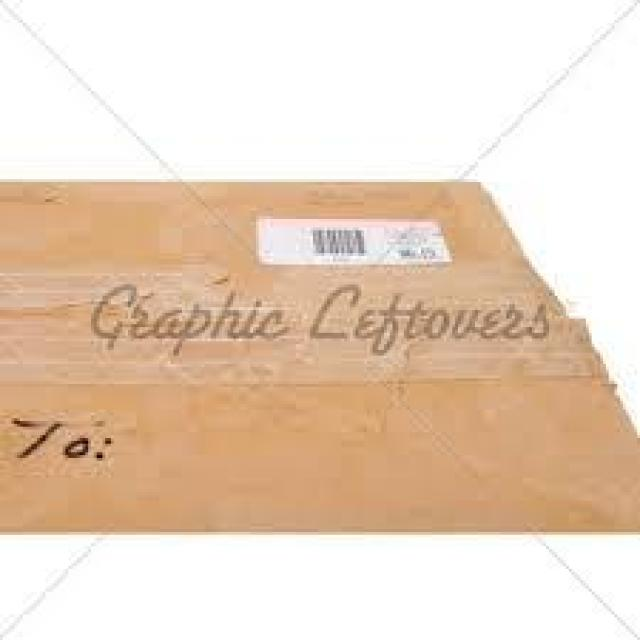PaperCardboard: (0, 175, 640, 542)
